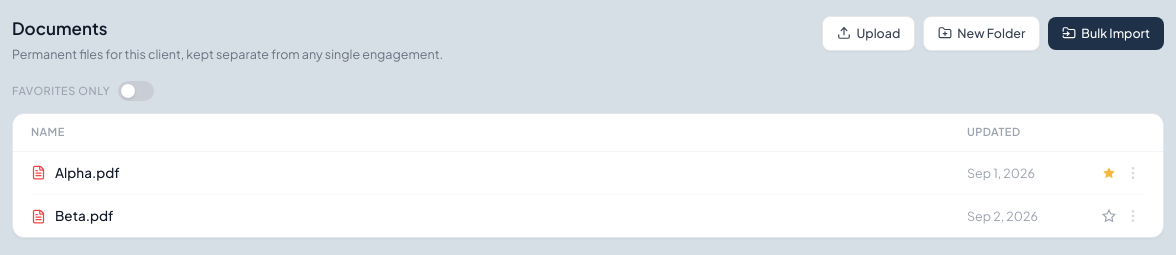
Scenario: FolderBrowser Favorites-only switch › clicking the switch filters rows to only favorited documents
This screenshot has width=1176, height=255.
Expected: the text "Alpha.pdf" is shown, [55, 163, 120, 183]
Expected: the text "Beta.pdf" is shown, [55, 206, 113, 226]
Step 1. Click the switch → (136, 91), box [118, 81, 154, 101]
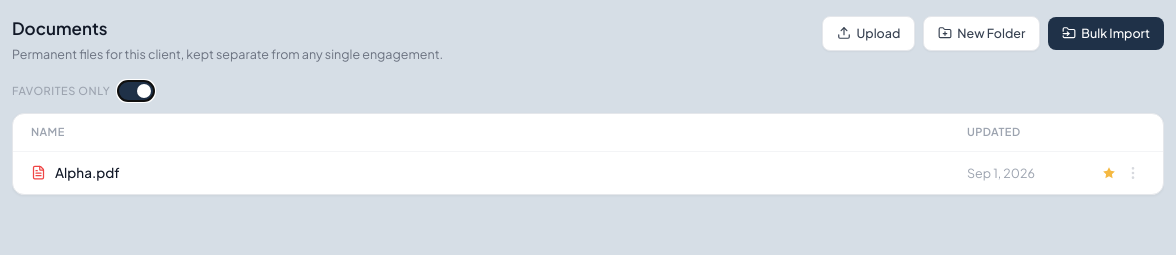
Expected: the text "Alpha.pdf" is shown, [55, 163, 120, 183]
Now the text "Beta.pdf" is gone
